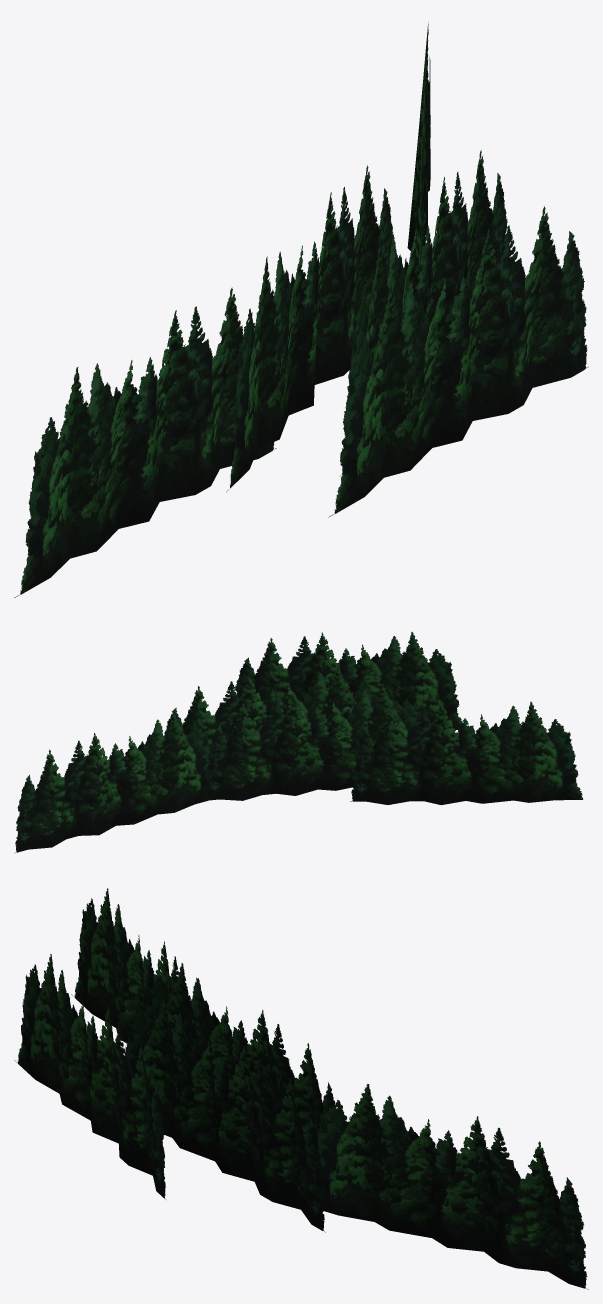
3 renders of one model, top to bottom at view 1: azimuth 30°, elevation 25°; view 2: azimuth 150°, elevation 25°; view 3: azimuth 270°, elevation 25°, orthographic. The views are drawn at different scales.
Visible parts, largest first — view 1: sa00zkic04_001; view 2: sa00zkic04_001; view 3: sa00zkic04_001.
Boxes of the visible parts, box(x1,y1,x2,y2) form: sa00zkic04_001: box(14, 23, 588, 597); sa00zkic04_001: box(14, 632, 582, 853); sa00zkic04_001: box(14, 888, 588, 1289).
Size of the model in its own units: 122 by 41.1 by 109.
1 material, 1 textured.
